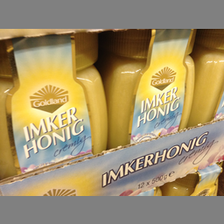honey: (1, 33, 110, 181), (113, 31, 195, 145)
